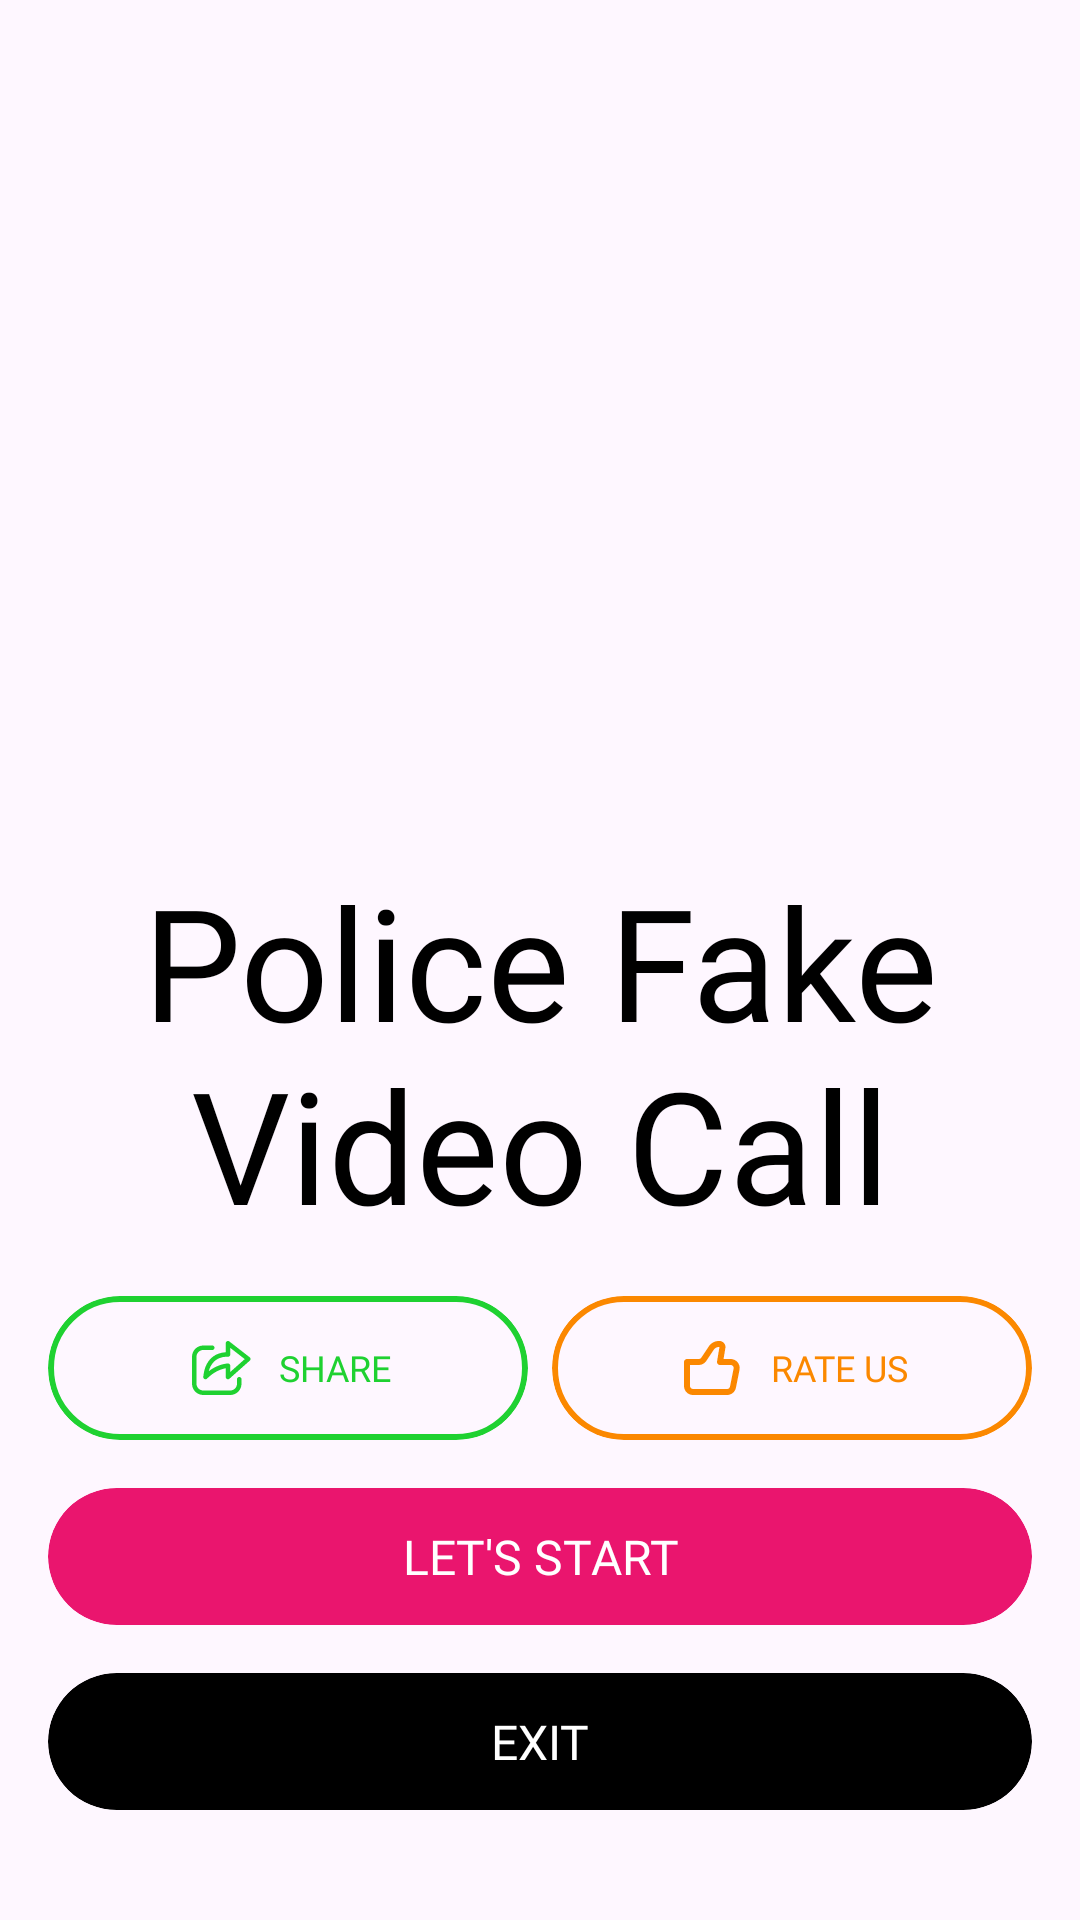

Screen size 1080 × 1920. Icon name, then its center in pixels as [x,y]:
like: [712,1368]
